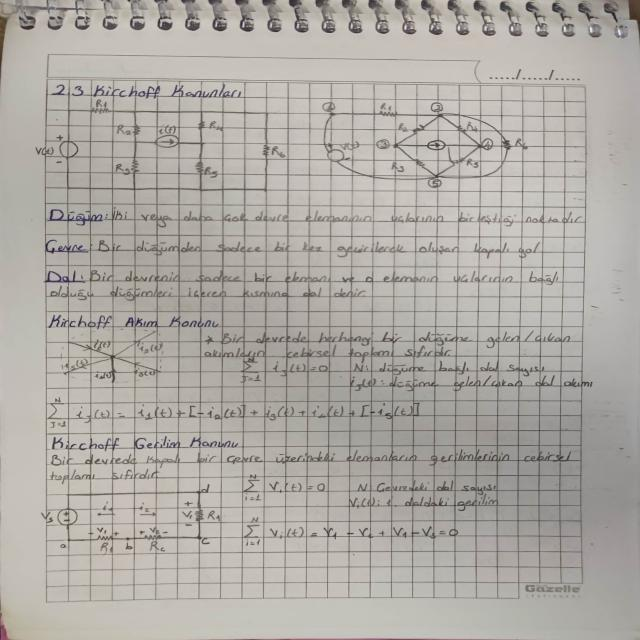image: (32, 97, 292, 197), (314, 98, 535, 192), (36, 482, 223, 556), (61, 328, 170, 387)
math: (43, 396, 423, 430), (240, 514, 461, 548), (232, 356, 332, 387)
text: (43, 267, 565, 299), (46, 452, 576, 482), (41, 204, 586, 229), (200, 330, 575, 360), (42, 236, 546, 258), (345, 360, 596, 390), (345, 478, 502, 511), (47, 310, 222, 330), (47, 82, 246, 99), (47, 435, 242, 451), (237, 472, 329, 503)
